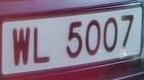0: (84, 14, 103, 60), (102, 12, 119, 57)
5: (65, 14, 85, 65)
7: (119, 10, 136, 55)
L: (31, 20, 55, 69)
W: (10, 22, 34, 72)
